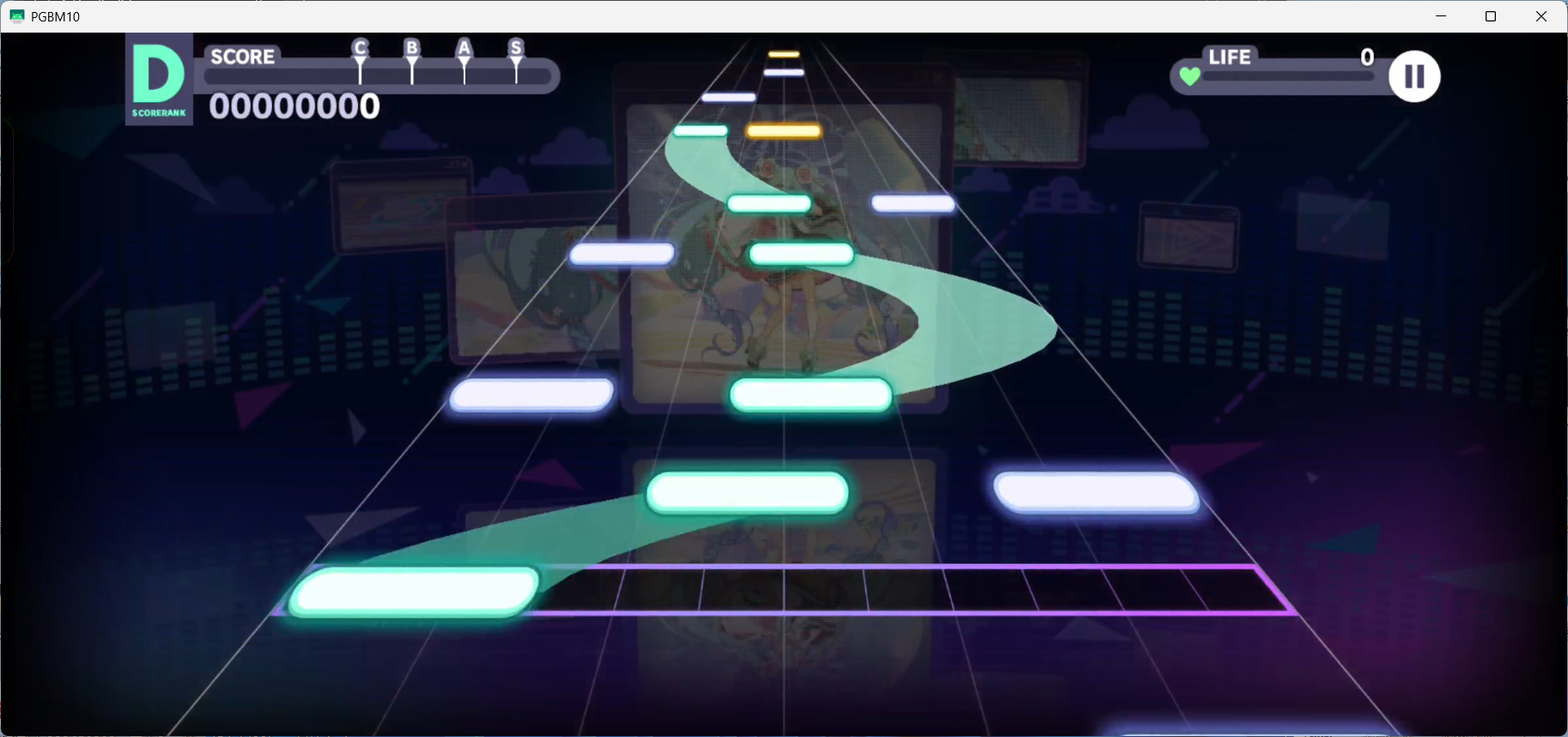hold: (806, 265, 1057, 379), (354, 516, 750, 568), (664, 138, 788, 194)
tap: (289, 566, 539, 619), (994, 471, 1200, 514), (646, 473, 848, 516), (729, 378, 892, 413), (449, 378, 614, 411), (749, 243, 853, 265), (569, 243, 674, 264), (871, 194, 955, 213), (726, 195, 811, 213), (746, 123, 821, 138), (673, 124, 727, 137)
